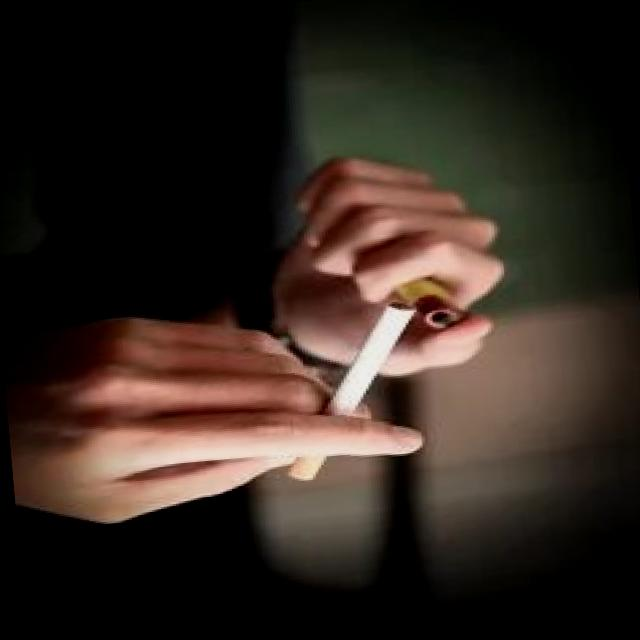smoke: (267, 295, 436, 484)
